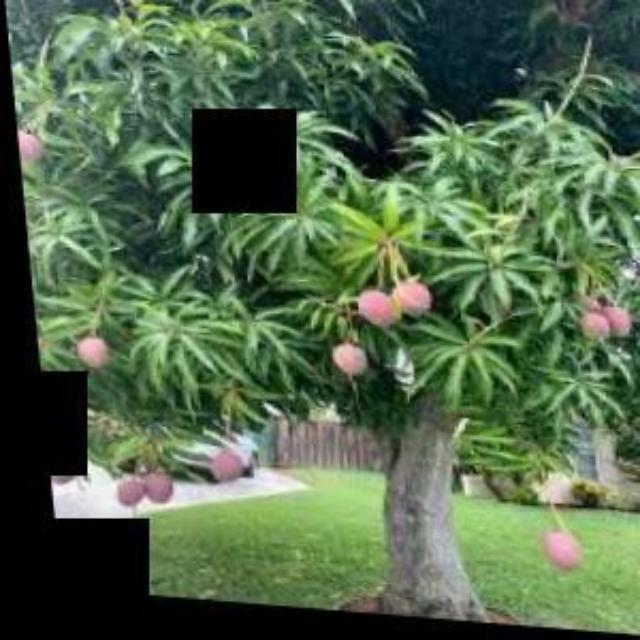tree: (24, 1, 640, 632)
